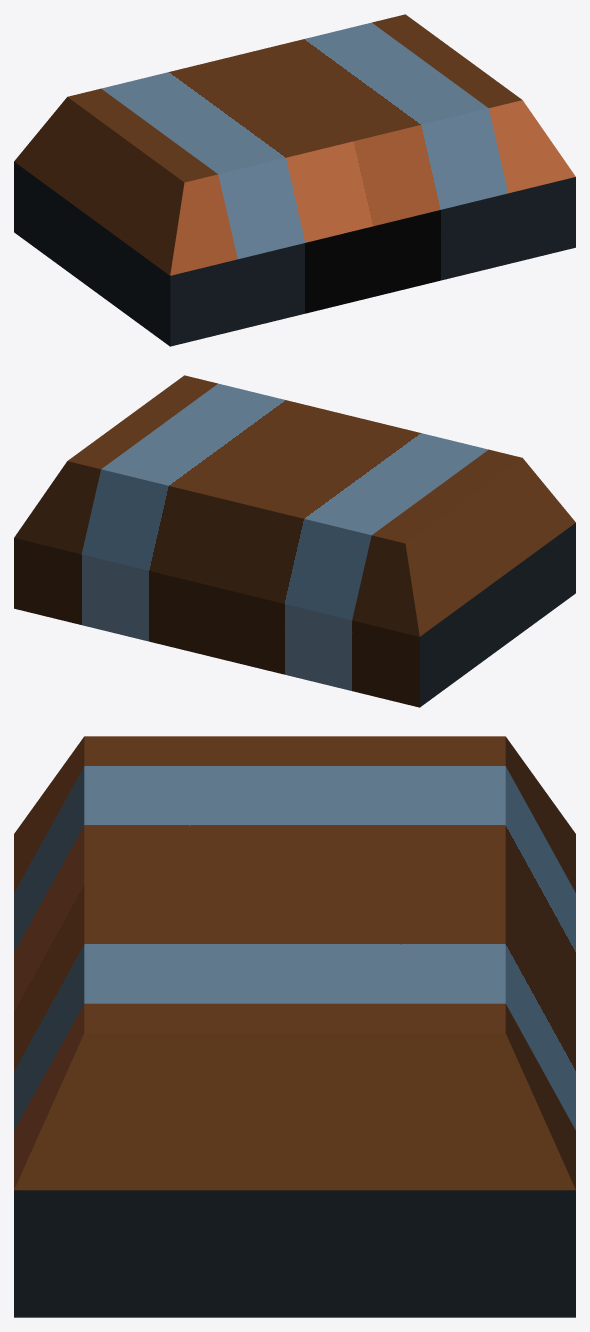
Rendered from chest_lid.gltf.
3 renders of one model, top to bottom at view 1: azimuth 30°, elevation 25°; view 2: azimuth 150°, elevation 25°; view 3: azimuth 270°, elevation 25°, orthographic. The views are drawn at different scales.
Parts seen in each view (by area): view 1: chest_lid; view 2: chest_lid; view 3: chest_lid.
Part boxes in pixels (box(x1,y1,x2,y2)): chest_lid: box(14, 14, 575, 346); chest_lid: box(14, 375, 575, 707); chest_lid: box(14, 736, 575, 1317).
Size of the model in its own units: 0.75 by 0.25 by 0.5.
